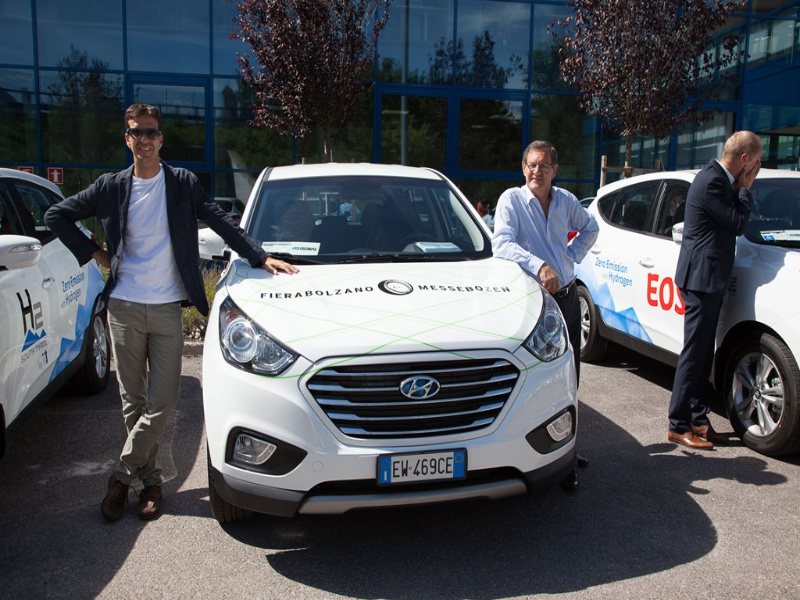licence_plate: (371, 446, 478, 488)
